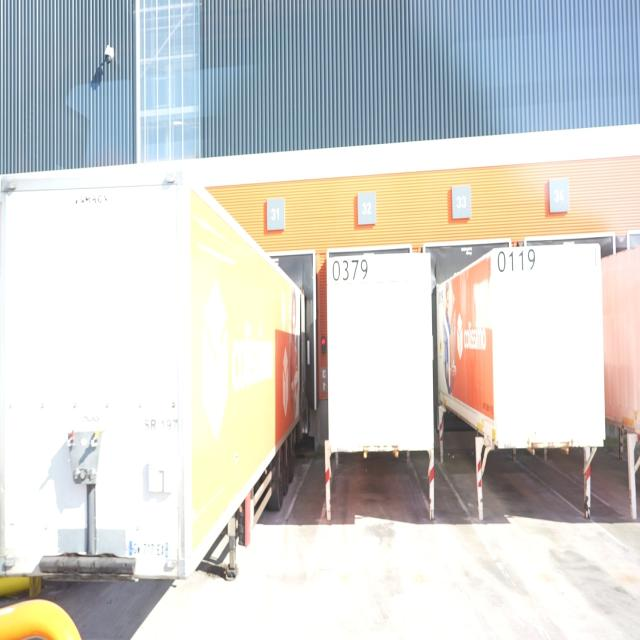Code: (329, 254, 371, 290), (493, 246, 537, 278)
